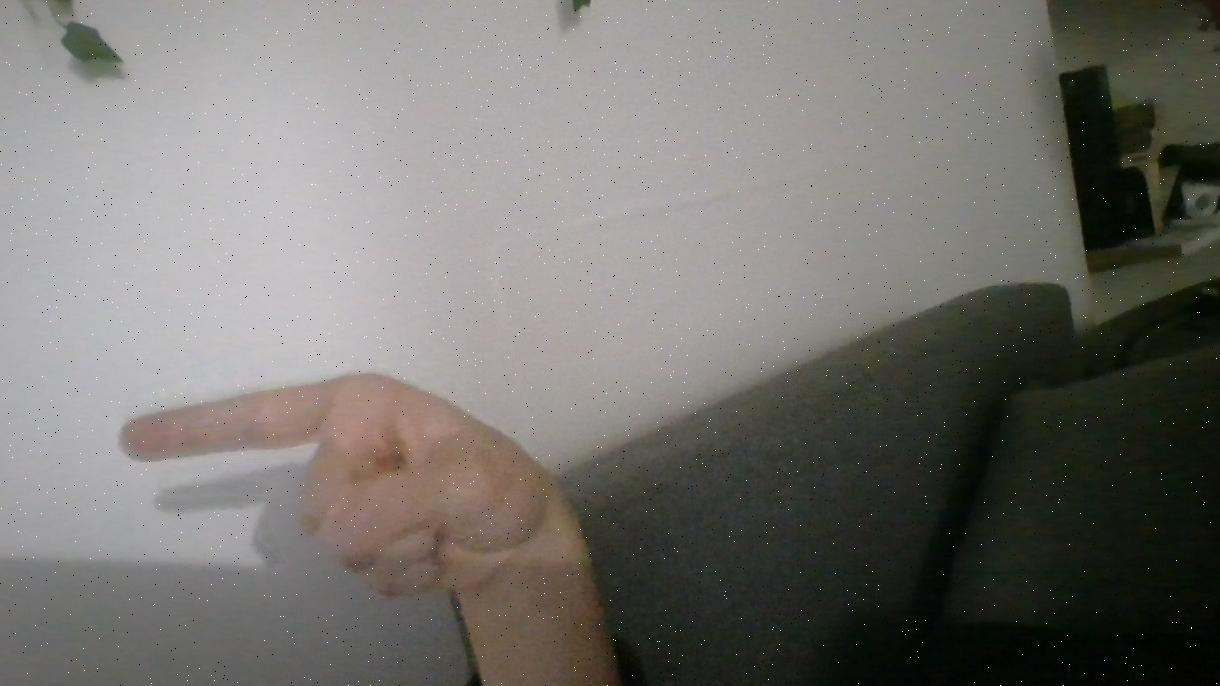left: (105, 344, 573, 618)
